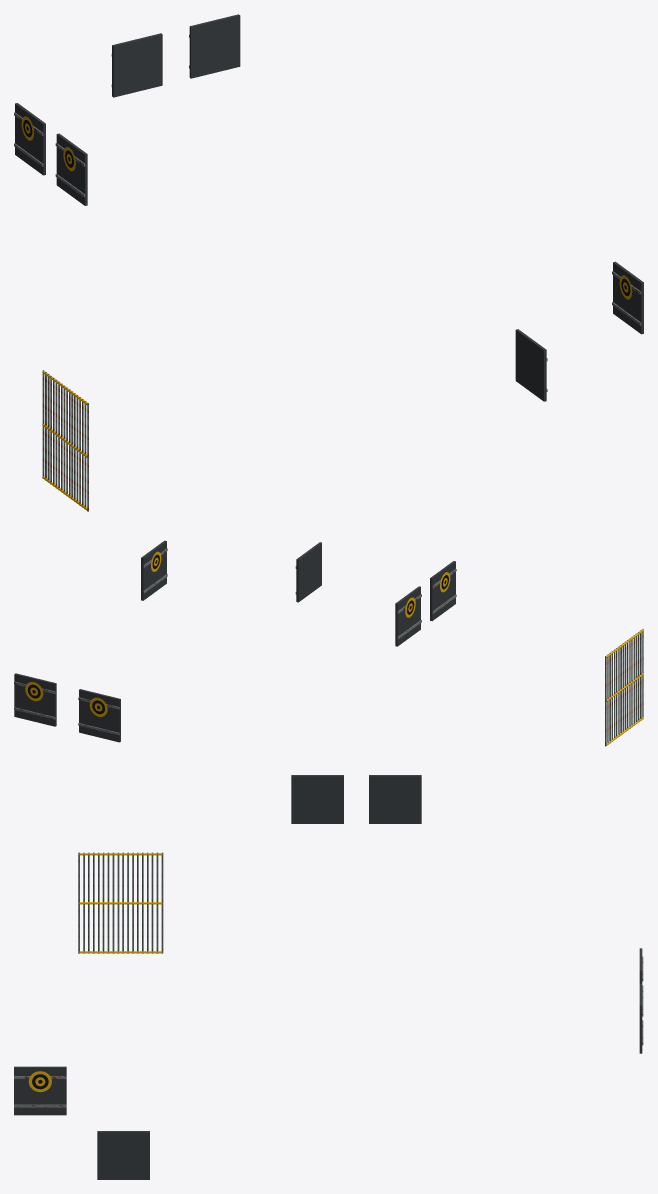
Rendered from inseguimento_mobili.glb.
3 views of the same model, one above another, from view 1: azimuth 30°, elevation 25°; view 2: azimuth 150°, elevation 25°; view 3: azimuth 270°, elevation 25° (orthographic). The views are drawn at different scales.
Visible parts, largest first — view 1: ins_grata, ins_paratia_2, ins_paratia_3, ins_paratia_4, ins_paratia_1, ins_paratia_0, ins_paratia_5; view 2: ins_grata, ins_paratia_2, ins_paratia_3, ins_paratia_0, ins_paratia_5, ins_paratia_1, ins_paratia_4; view 3: ins_grata, ins_paratia_4, ins_paratia_0, ins_paratia_1, ins_paratia_5.
Boxes of the visible parts, left/top/right/bottom form: ins_grata: left=42, top=370, right=89, bottom=511; ins_paratia_2: left=189, top=14, right=240, bottom=78; ins_paratia_3: left=111, top=33, right=162, bottom=97; ins_paratia_4: left=515, top=329, right=547, bottom=401; ins_paratia_1: left=55, top=133, right=87, bottom=205; ins_paratia_0: left=14, top=103, right=45, bottom=175; ins_paratia_5: left=612, top=261, right=643, bottom=334; ins_grata: left=605, top=629, right=643, bottom=746; ins_paratia_2: left=14, top=673, right=56, bottom=726; ins_paratia_3: left=78, top=689, right=120, bottom=742; ins_paratia_0: left=395, top=586, right=421, bottom=646; ins_paratia_5: left=141, top=540, right=167, bottom=600; ins_paratia_1: left=430, top=561, right=456, bottom=621; ins_paratia_4: left=295, top=542, right=321, bottom=602; ins_grata: left=78, top=852, right=163, bottom=953; ins_paratia_4: left=14, top=1066, right=66, bottom=1115; ins_paratia_0: left=369, top=775, right=421, bottom=823; ins_paratia_1: left=291, top=775, right=343, bottom=823; ins_paratia_5: left=97, top=1131, right=149, bottom=1179.
Size of what is drawn, in the model's own units: 21.94 by 9.1 by 22.71.
5 materials, 2 textured.
